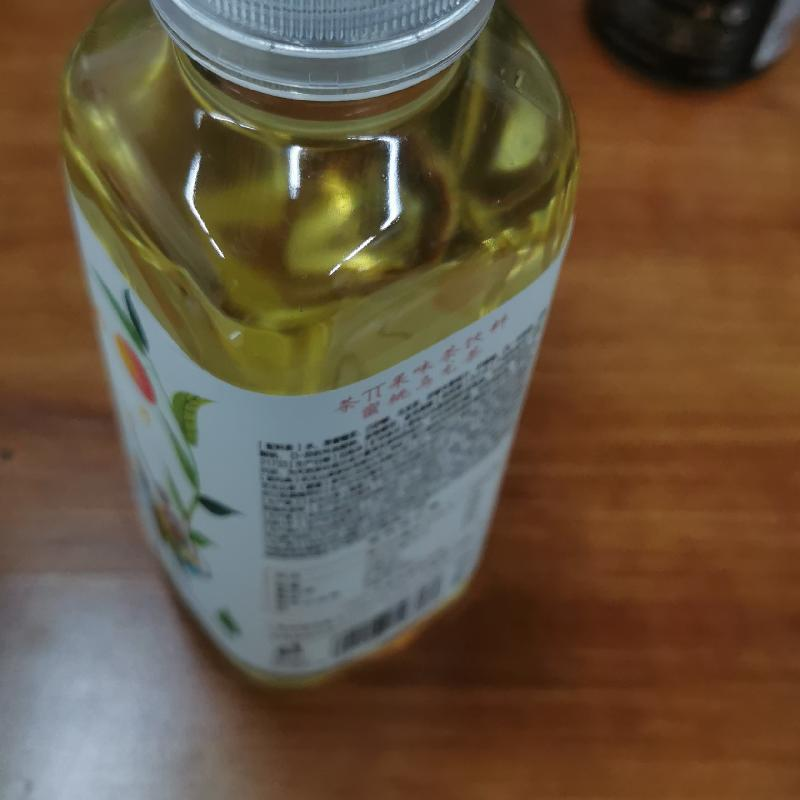bottles: (56, 1, 581, 686)
